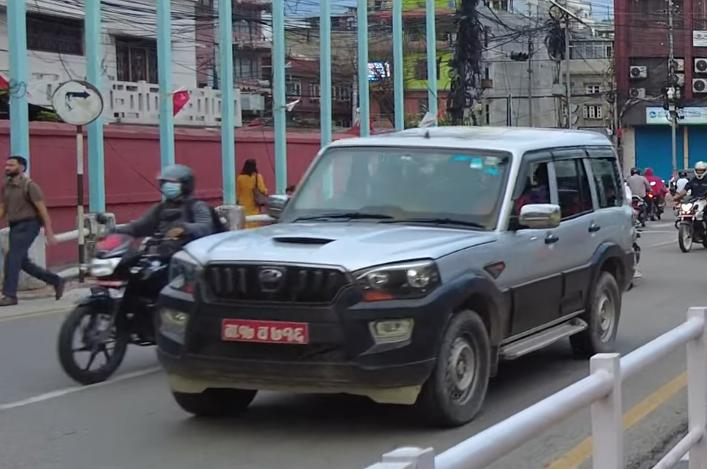SUV: (144, 115, 645, 427)
bike: (52, 199, 175, 388), (668, 184, 707, 258)
